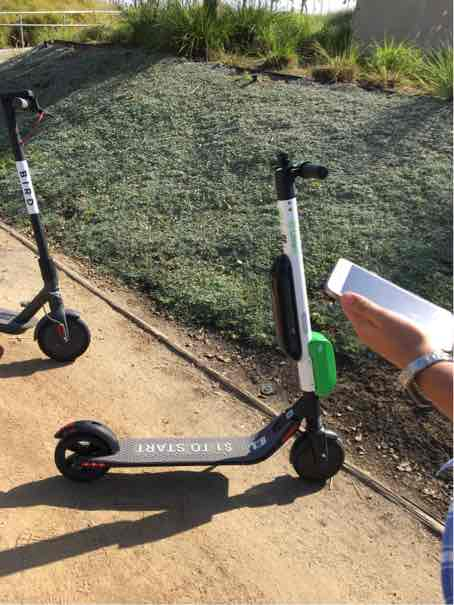scooter: (52, 154, 354, 495)
